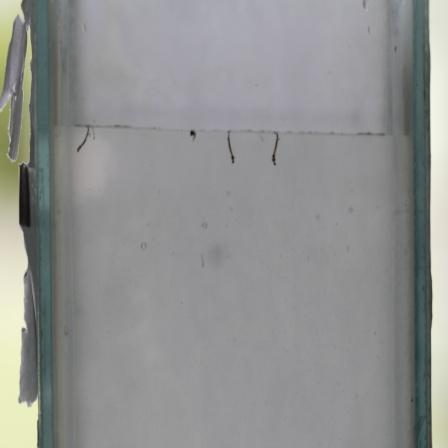Jentik-Nyamuk: (74, 123, 92, 156), (268, 128, 282, 168), (223, 128, 238, 165), (185, 127, 201, 144)
